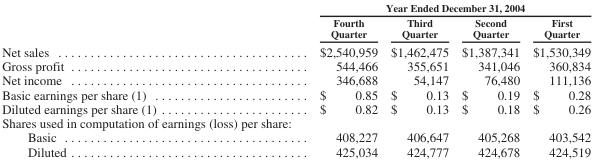table: (1, 1, 590, 158)
table column: (1, 1, 237, 158), (237, 1, 383, 158), (383, 1, 454, 158), (454, 1, 525, 158), (525, 1, 590, 158)
table column header: (1, 1, 590, 41)
table projected row header: (1, 115, 590, 129)
table row: (1, 14, 590, 41), (1, 41, 590, 58), (1, 72, 590, 87), (1, 129, 590, 144), (1, 58, 590, 72), (1, 87, 590, 101), (1, 101, 590, 115), (1, 115, 590, 129), (1, 144, 590, 158), (1, 1, 590, 14)
table spanning cell: (237, 1, 590, 14)
